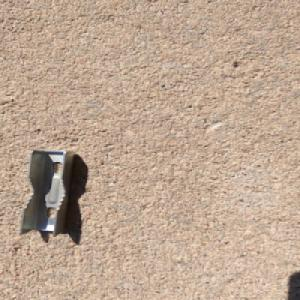ClampPart: (16, 148, 76, 238)
